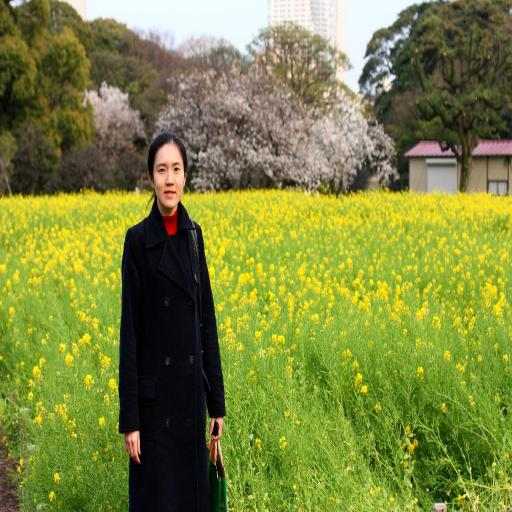Person: (96, 160, 251, 452)
no_gloves: (117, 369, 154, 401), (194, 353, 231, 385)
no_goggle: (153, 193, 184, 203)
no_helmet: (141, 171, 188, 193)
none: (124, 227, 216, 379)
